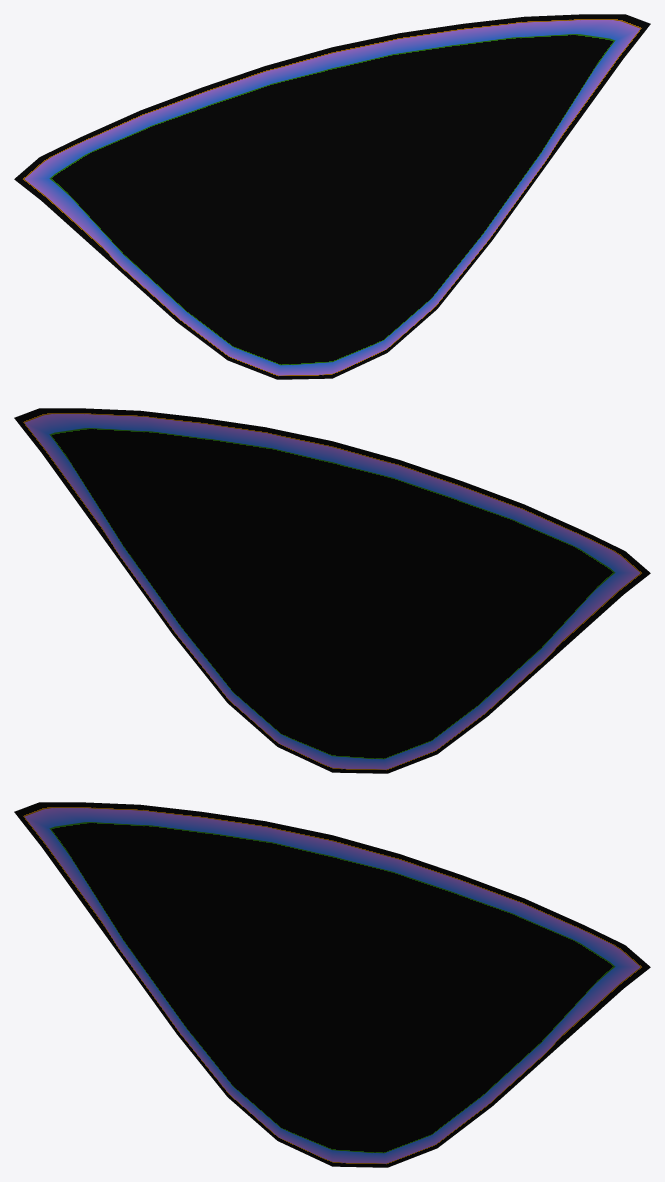
File: MouthStickerDog1.FBX
3 views of the same model, one above another, from view 1: azimuth 30°, elevation 25°; view 2: azimuth 150°, elevation 25°; view 3: azimuth 330°, elevation 25° (orthographic).
Parts seen in each view (by area): view 1: Line006; view 2: Line006; view 3: Line006.
Boxes of the visible parts, <box> form: Line006: <box>14,14,650,379</box>; Line006: <box>14,408,650,773</box>; Line006: <box>14,802,650,1167</box>.
Bounding box in the file's own units: 34.2 × 5.16e-06 × 17.
